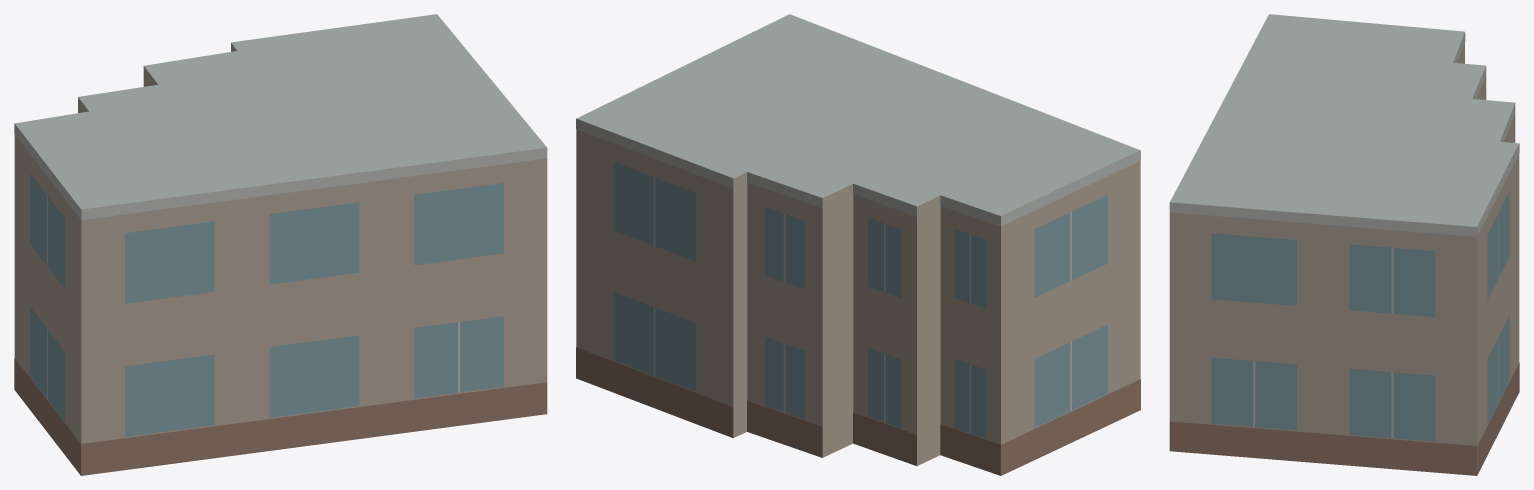
Rendered from survey-upis-32711073.glb.
3 renders of one model, left to right at view 1: azimuth 30°, elevation 25°; view 2: azimuth 150°, elevation 25°; view 3: azimuth 270°, elevation 25°, orthographic. The views are drawn at different scales.
Parts seen in each view (by area): view 1: survey-upis-32711073.tmp; view 2: survey-upis-32711073.tmp; view 3: survey-upis-32711073.tmp.
Part boxes in pixels (x1=…): survey-upis-32711073.tmp: x1=14, y1=14, x2=547, y2=475; survey-upis-32711073.tmp: x1=576, y1=14, x2=1140, y2=475; survey-upis-32711073.tmp: x1=1169, y1=14, x2=1519, y2=475.
Size of the model in its own units: 11.21 by 6.1 by 7.78.
